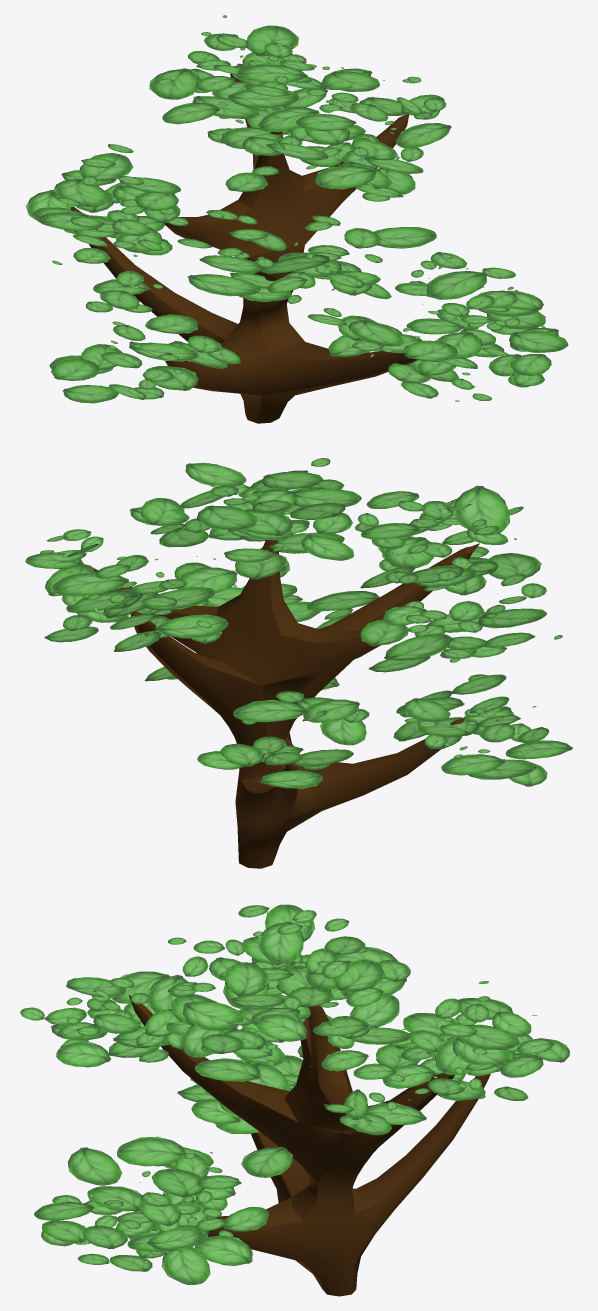
File: PRP_bush_lowPoly_geo_v03.fbx
The picture shows the model from 3 angles, top to bottom: view 1: azimuth 30°, elevation 25°; view 2: azimuth 150°, elevation 25°; view 3: azimuth 270°, elevation 25°; orthographic projection. The views are drawn at different scales.
Parts seen in each view (by area): view 1: PRP_bush_lowPoly_geo; view 2: PRP_bush_lowPoly_geo; view 3: PRP_bush_lowPoly_geo.
Part boxes in pixels (<box>): PRP_bush_lowPoly_geo: <box>26,15,568,423</box>; PRP_bush_lowPoly_geo: <box>25,458,572,868</box>; PRP_bush_lowPoly_geo: <box>20,904,569,1296</box>.
Bounding box in the file's own units: 0.863 × 0.6043 × 0.9175.
